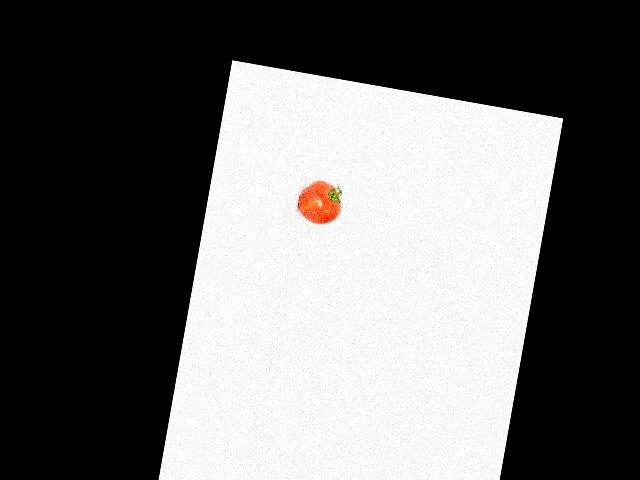tomato: (295, 177, 346, 227)
